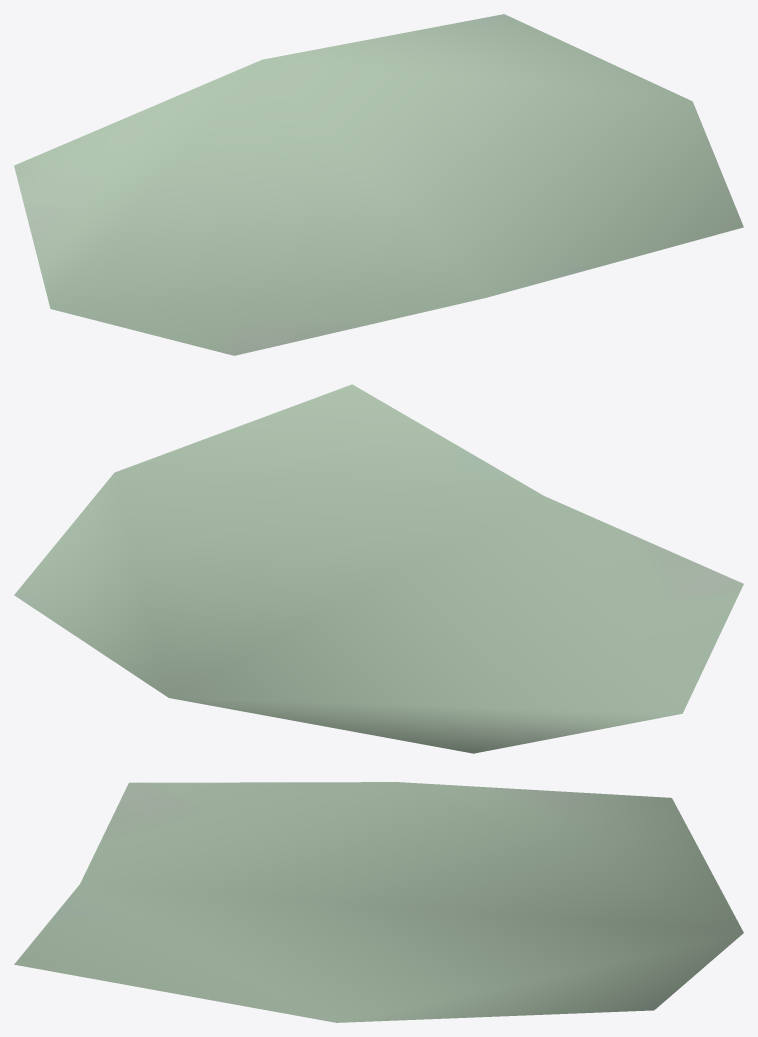
The model's file is TROLLHOLE02_HOLECAP191.fbx.
3 renders of one model, top to bottom at view 1: azimuth 30°, elevation 25°; view 2: azimuth 150°, elevation 25°; view 3: azimuth 270°, elevation 25°, orthographic. The views are drawn at different scales.
Parts seen in each view (by area): view 1: TROLLHOLE02_HOLECAP191; view 2: TROLLHOLE02_HOLECAP191; view 3: TROLLHOLE02_HOLECAP191.
Part boxes in pixels (x1,y1,x2,y2): TROLLHOLE02_HOLECAP191: [14, 14, 743, 355]; TROLLHOLE02_HOLECAP191: [14, 384, 743, 753]; TROLLHOLE02_HOLECAP191: [14, 782, 743, 1022].
Bounding box in the file's own units: 12674 × 1666 × 11993.
1 material, 1 textured.
